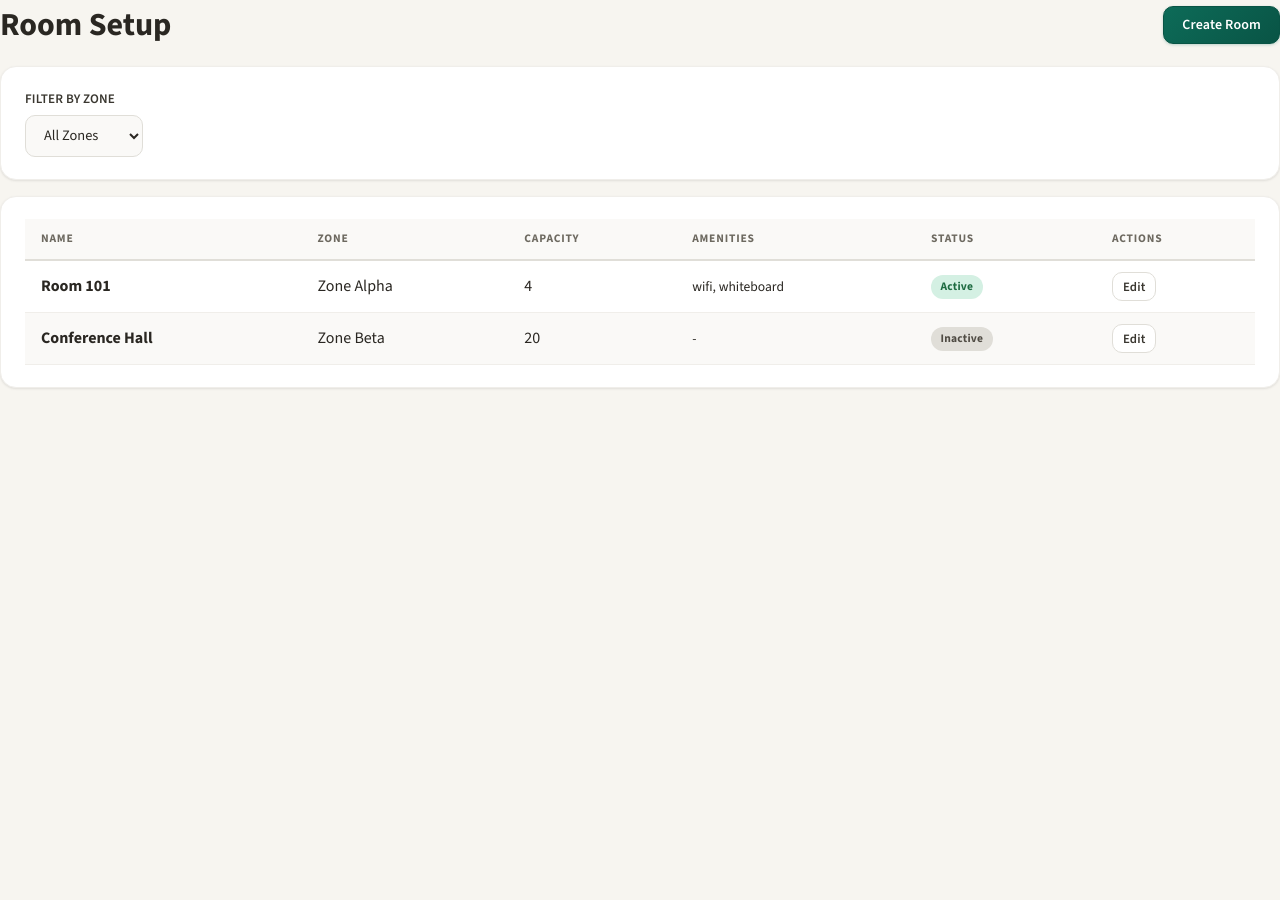
RoomSetupPage › Create Room modal › shows form error when apiPost fails
Click the button "Create Room".
click(1222, 25)  # box [1163, 6, 1279, 44]
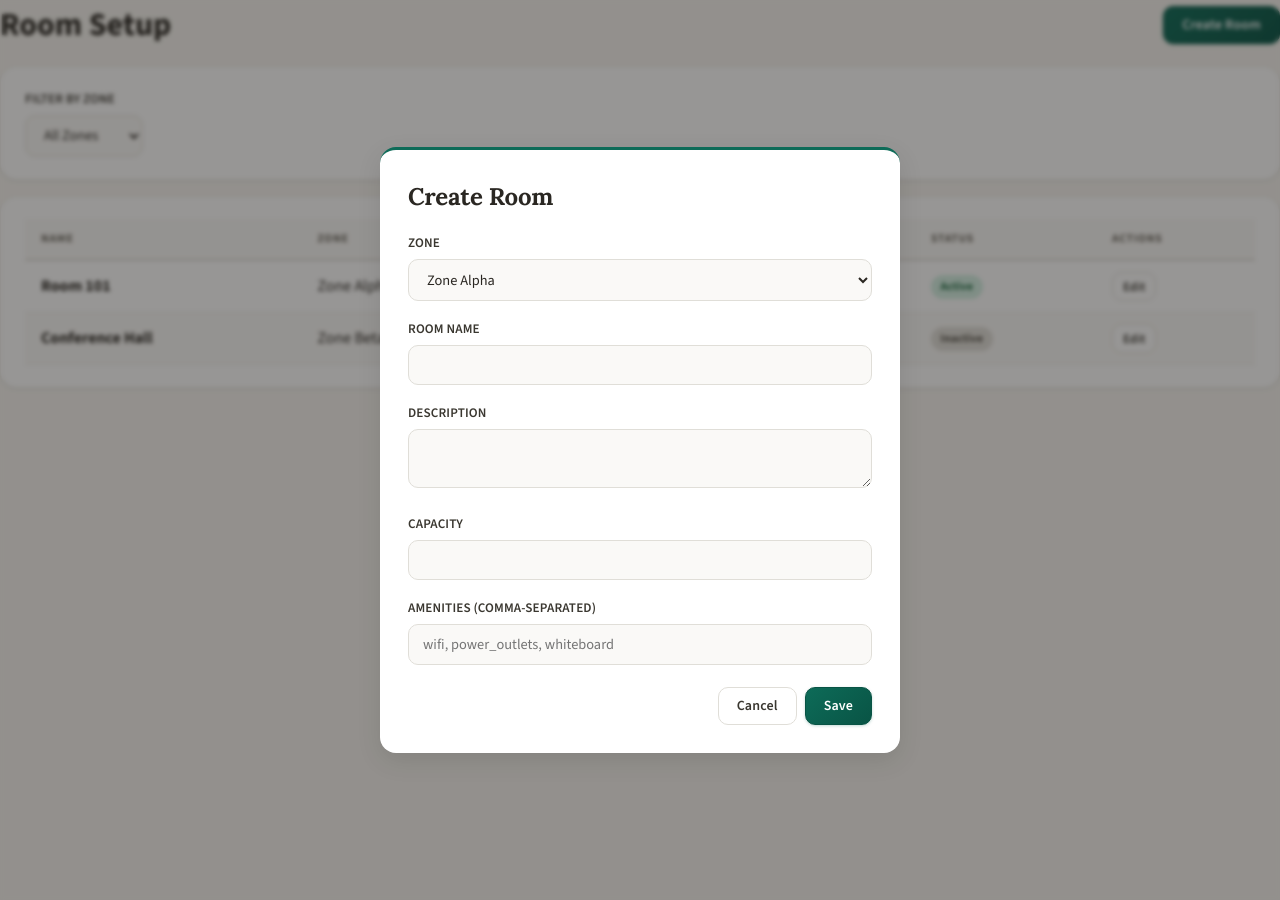
Type "Room 101" into the 1st field.
click(640, 365); type("Room 101")  # box [408, 345, 872, 385]
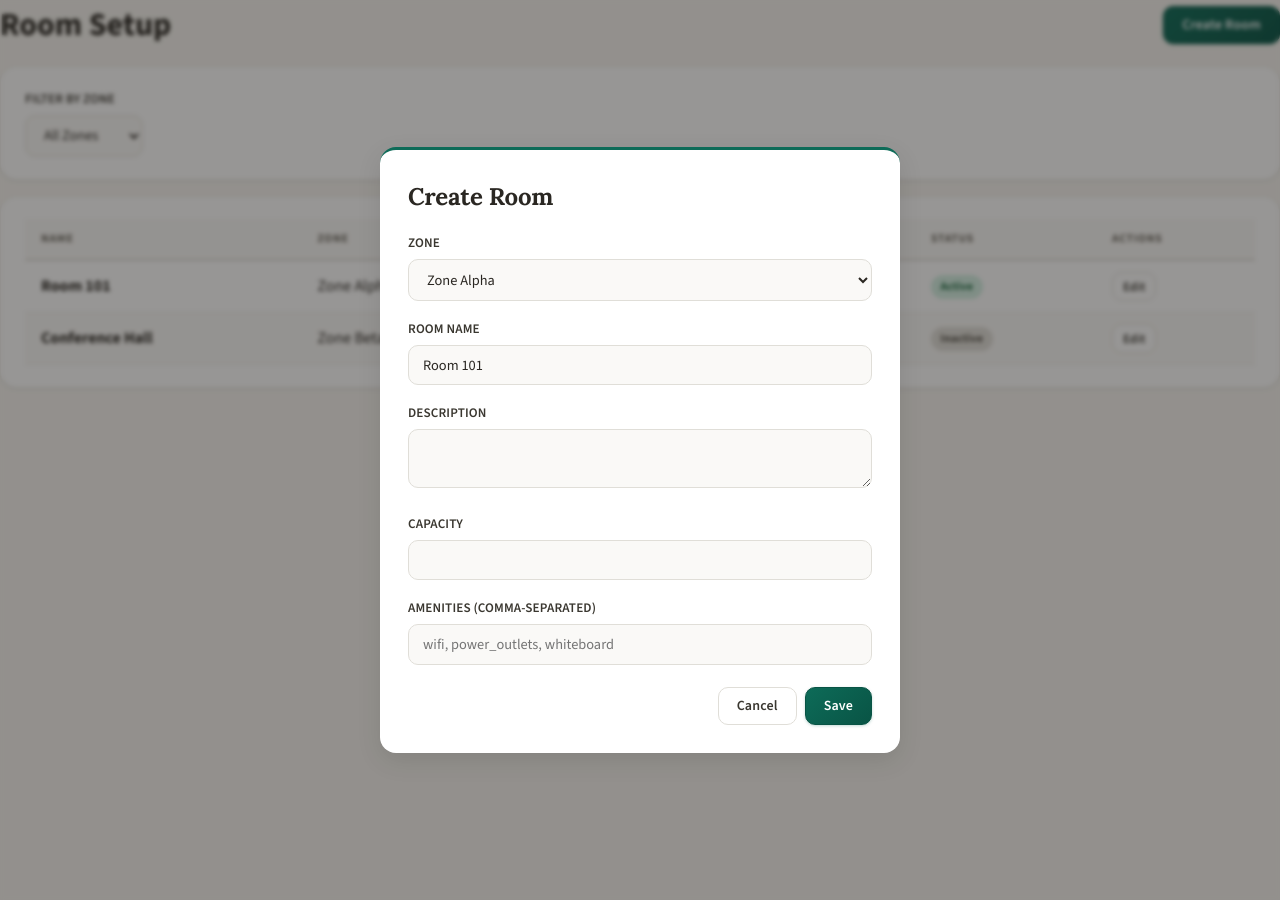
Click the button "Save".
click(838, 706)  # box [805, 686, 872, 725]
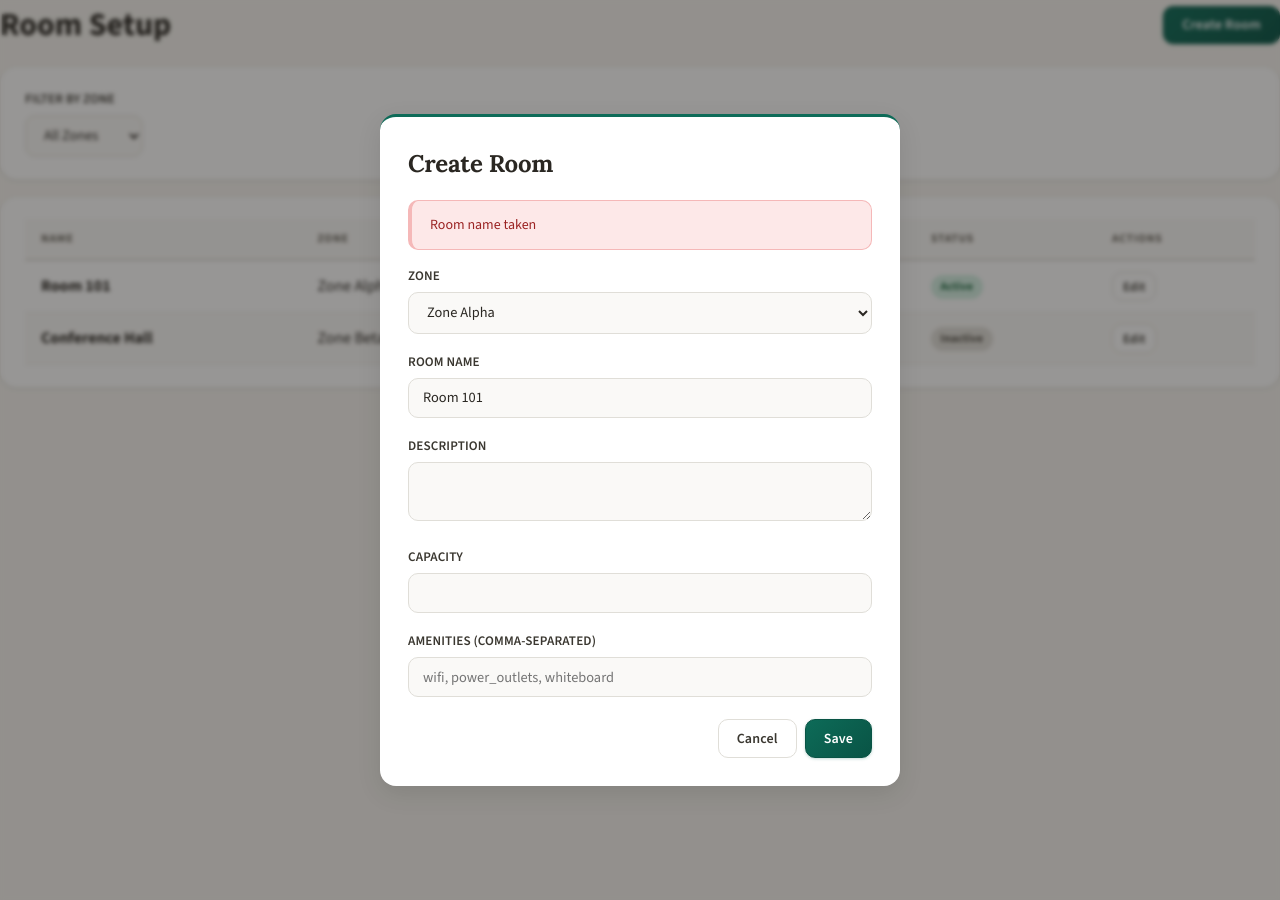
Now the text "Room name taken" is shown, box [408, 200, 872, 250]
